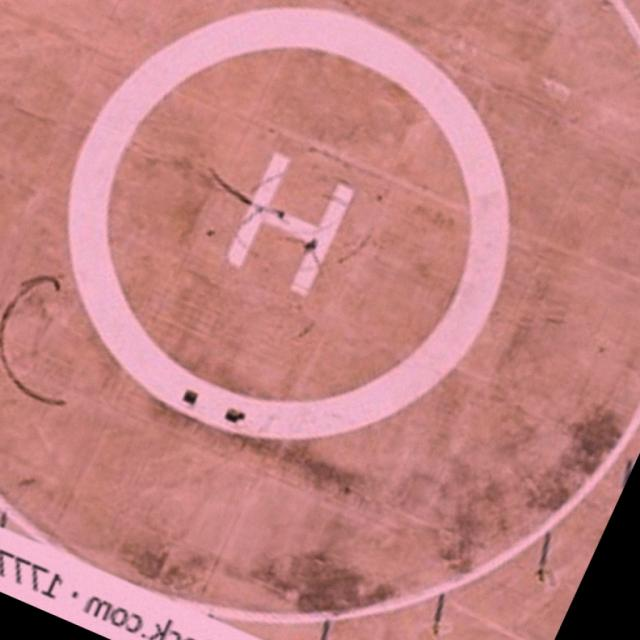helipad: (57, 0, 518, 449)
